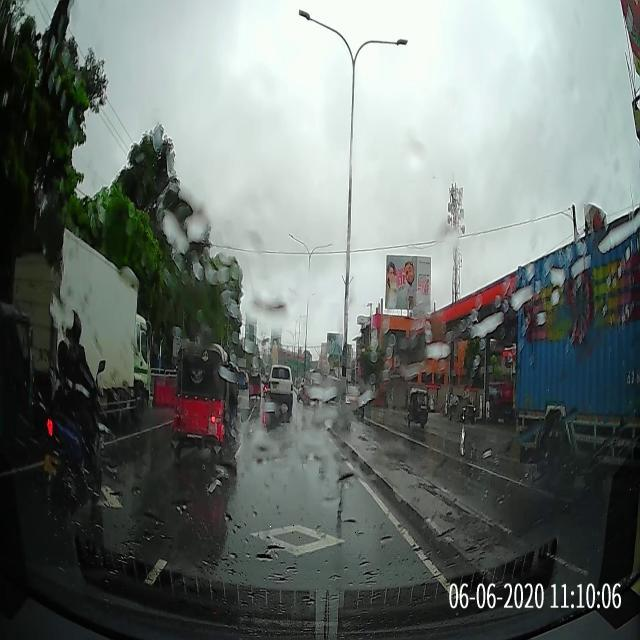diamond: (167, 524, 426, 556)
